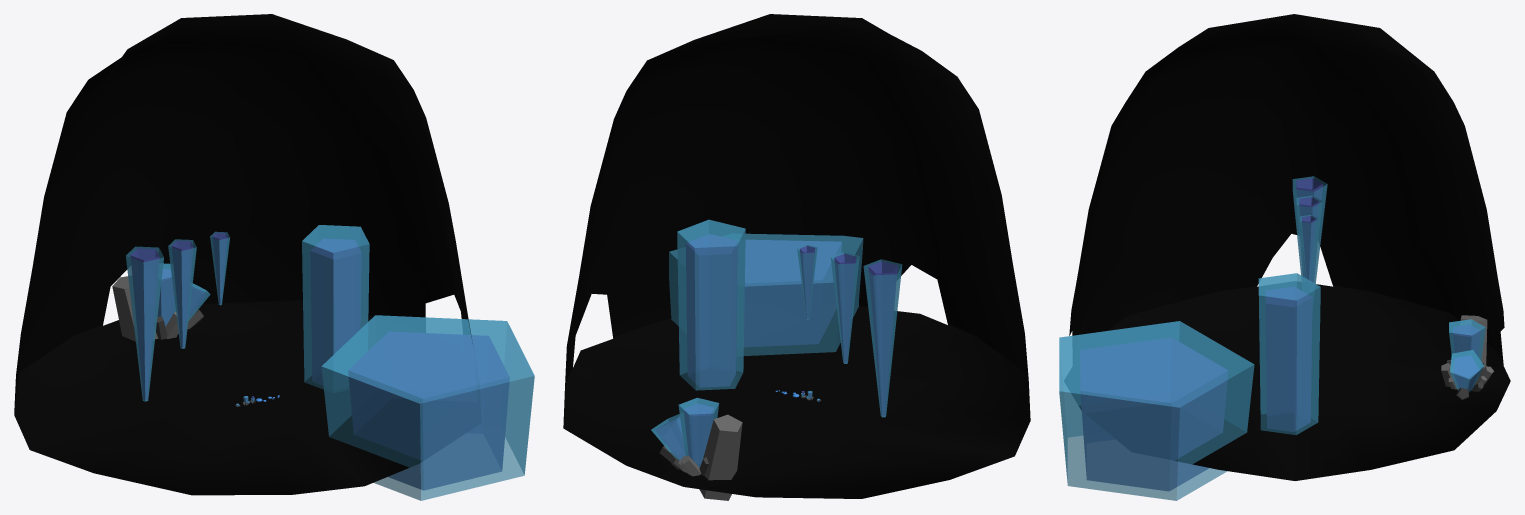
Rendered from assetsCuevaT2.fbx.
The picture shows the model from 3 angles, left to right: view 1: azimuth 30°, elevation 25°; view 2: azimuth 150°, elevation 25°; view 3: azimuth 270°, elevation 25°; orthographic projection. The views are drawn at different scales.
Parts seen in each view (by area): view 1: CuevaCuerpoT2, monticulo1T2, monticulo2T2, estalagtita1T2, cristalesGrandes1T2, estalactita2T2, estalactita2T3; view 2: CuevaCuerpoT2, monticulo1T2, monticulo2T2, cristalesGrandes1T2, estalagtita1T2, estalactita2T2, estalactita2T3; view 3: CuevaCuerpoT2, monticulo1T2, monticulo2T2, cristalesGrandes1T2, estalagtita1T2, estalactita2T2, estalactita2T3.
Part boxes in pixels (bbox=[...]): CuevaCuerpoT2: bbox=[14, 14, 473, 495]; monticulo1T2: bbox=[321, 315, 534, 500]; monticulo2T2: bbox=[302, 225, 369, 389]; estalagtita1T2: bbox=[126, 246, 163, 401]; cristalesGrandes1T2: bbox=[112, 263, 210, 341]; estalactita2T2: bbox=[168, 239, 196, 348]; estalactita2T3: bbox=[210, 231, 230, 305]; CuevaCuerpoT2: bbox=[563, 14, 1030, 498]; monticulo1T2: bbox=[669, 233, 863, 355]; monticulo2T2: bbox=[677, 219, 745, 390]; cristalesGrandes1T2: bbox=[651, 397, 742, 500]; estalagtita1T2: bbox=[863, 259, 902, 417]; estalactita2T2: bbox=[830, 252, 859, 363]; estalactita2T3: bbox=[797, 245, 817, 319]; CuevaCuerpoT2: bbox=[1069, 14, 1510, 480]; monticulo1T2: bbox=[1059, 321, 1254, 500]; monticulo2T2: bbox=[1258, 273, 1320, 434]; cristalesGrandes1T2: bbox=[1441, 315, 1493, 399]; estalagtita1T2: bbox=[1292, 176, 1327, 283]; estalactita2T2: bbox=[1296, 195, 1322, 282]; estalactita2T3: bbox=[1300, 215, 1318, 280].
Size of the model in its own units: 3083 by 2626 by 2939.
